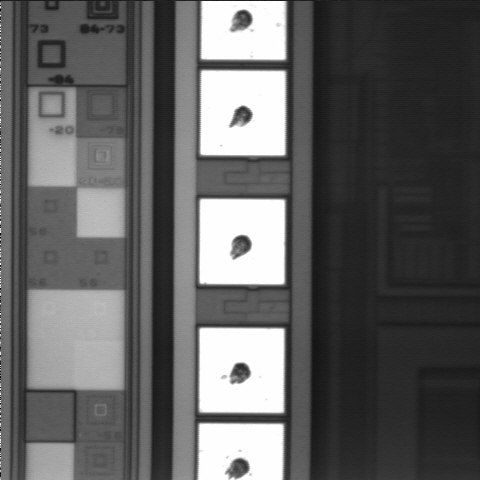pad: (200, 199, 285, 284), (199, 328, 284, 413), (200, 71, 285, 155)
